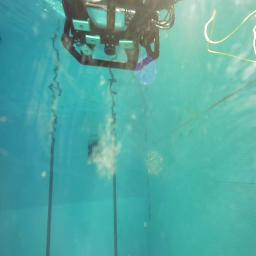Full: (87, 151, 104, 159)
Side: (61, 0, 165, 71)
